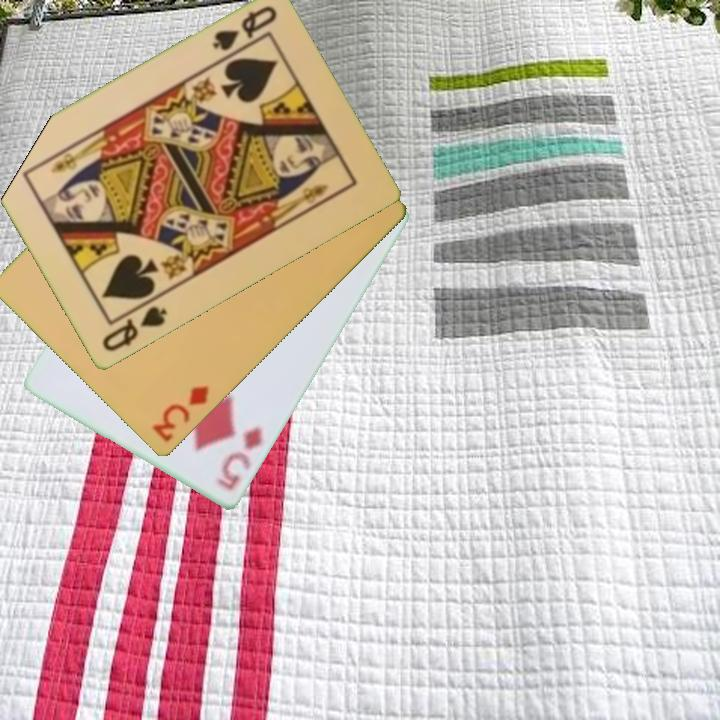3d: (148, 382, 212, 446)
5d: (212, 423, 266, 494)
Qs: (208, 2, 280, 55), (98, 303, 170, 355)
